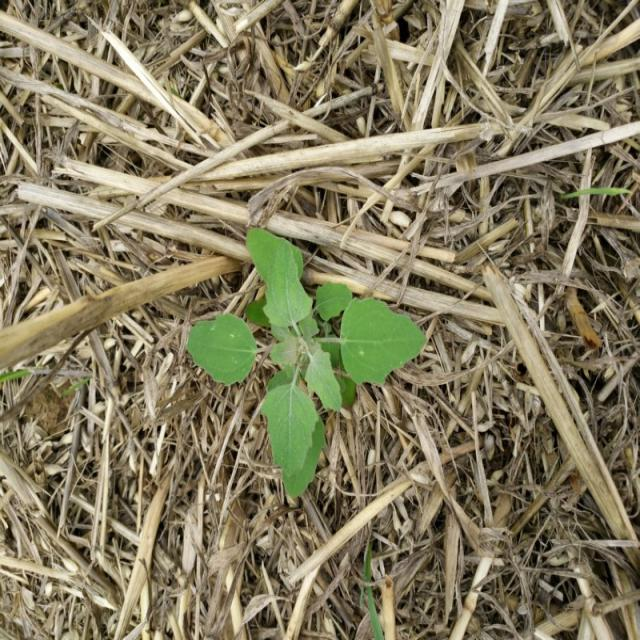ca: (190, 229, 431, 504)
